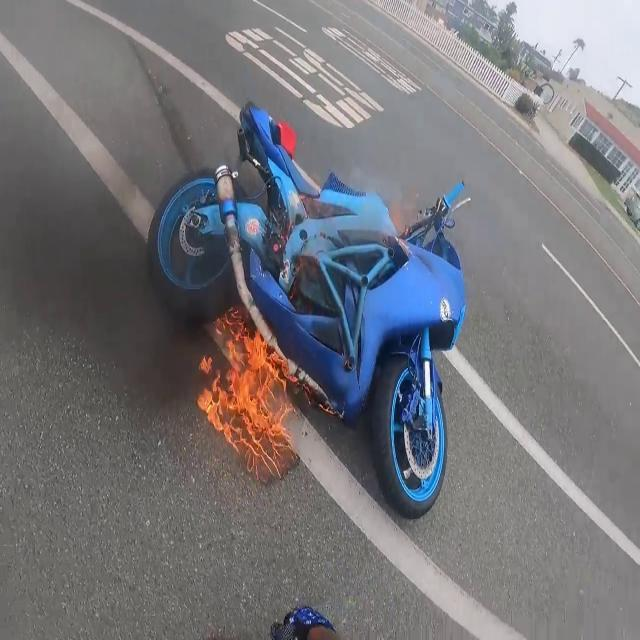Fire: (197, 309, 296, 466)
